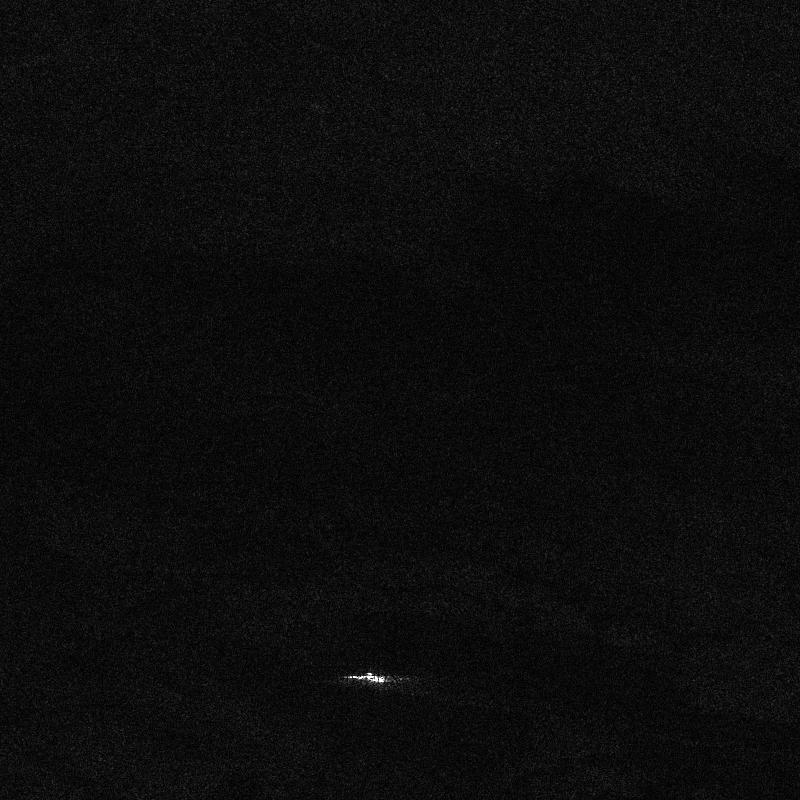ship: (344, 673, 385, 683)
